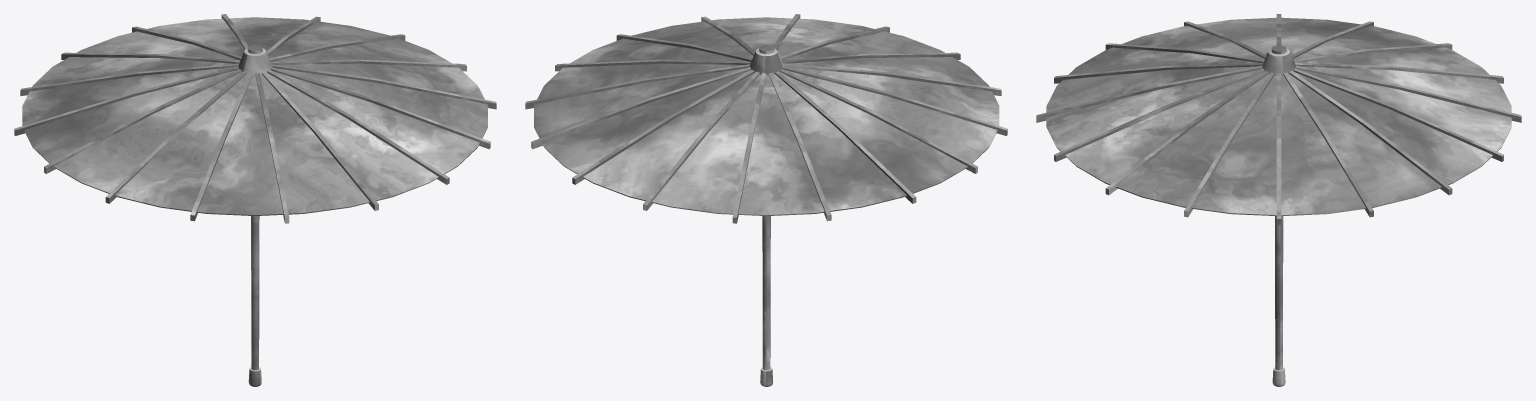
Rendered from SM_umbrella_03.fbx.
3 renders of one model, left to right at view 1: azimuth 30°, elevation 25°; view 2: azimuth 150°, elevation 25°; view 3: azimuth 270°, elevation 25°, orthographic.
Visible parts, largest first — view 1: SM_umbrella_03; view 2: SM_umbrella_03; view 3: SM_umbrella_03.
Part boxes in pixels (x1,y1,x2,y2): SM_umbrella_03: [14, 14, 496, 386]; SM_umbrella_03: [525, 14, 1007, 386]; SM_umbrella_03: [1036, 14, 1521, 386].
Size of the model in its own units: 174 by 174 by 133.
Materials: 1 (1 with a texture image).
